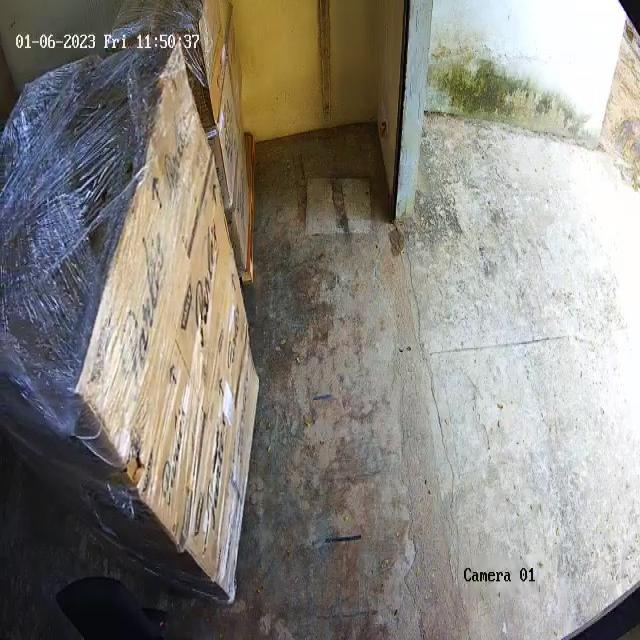leakage: (121, 457, 155, 493)
